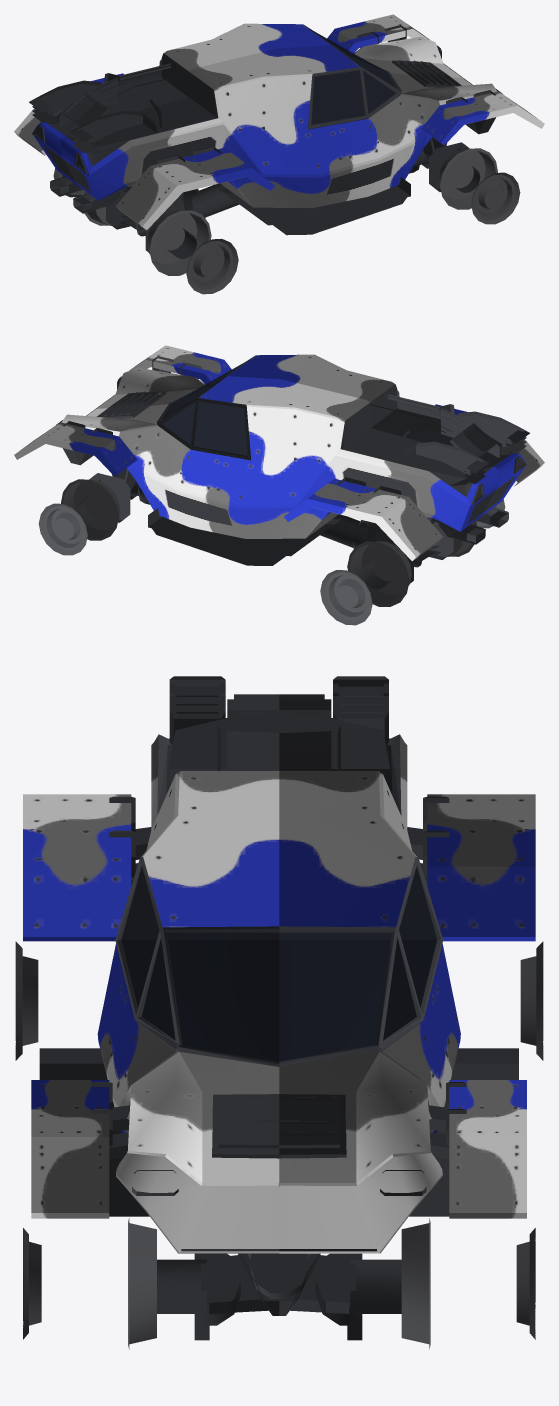
Rendered from marauder.obj.
3 views of the same model, one above another, from view 1: azimuth 30°, elevation 25°; view 2: azimuth 150°, elevation 25°; view 3: azimuth 270°, elevation 25° (orthographic). The views are drawn at different scales.
Size of the model in its own units: 2.16 by 0.9215 by 1.17.
3 materials, 2 textured.
